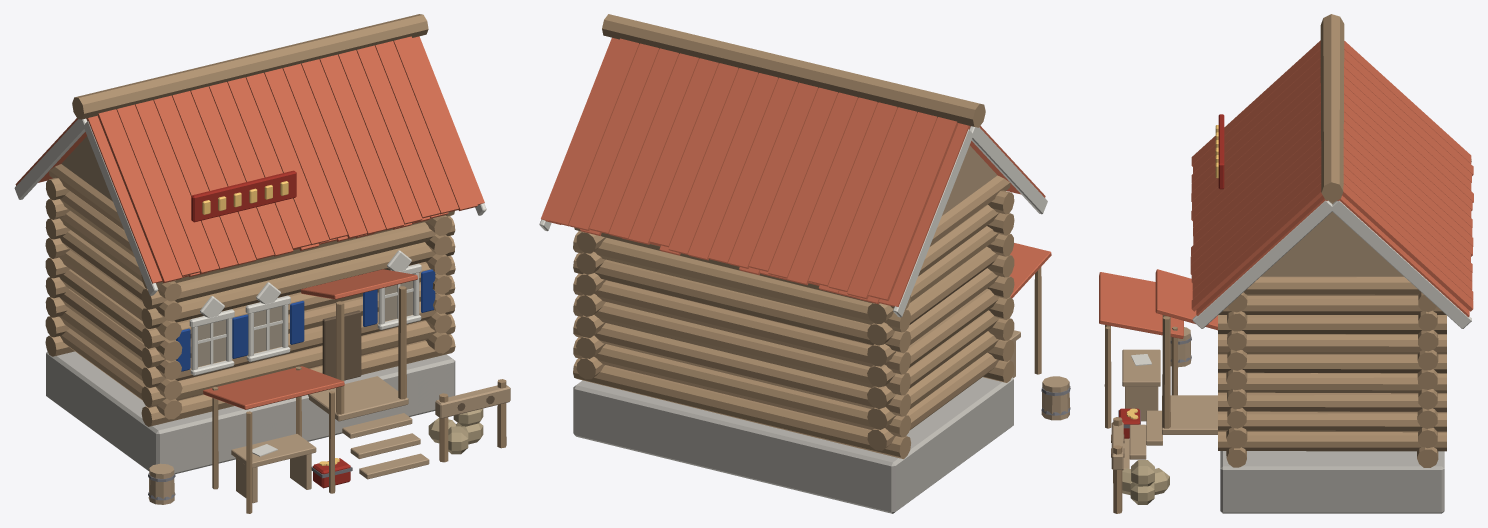
Rendered from bld_prikaz.glb.
3 renders of one model, left to right at view 1: azimuth 30°, elevation 25°; view 2: azimuth 150°, elevation 25°; view 3: azimuth 270°, elevation 25°, orthographic. The views are drawn at different scales.
Parts seen in each view (by area): view 1: prikaz; view 2: prikaz; view 3: prikaz.
Part boxes in pixels (<box>): prikaz: <box>14,14,510,513</box>; prikaz: <box>539,14,1070,513</box>; prikaz: <box>1099,14,1473,513</box>.
Size of the model in its own units: 1.69 by 1.59 by 1.57.
